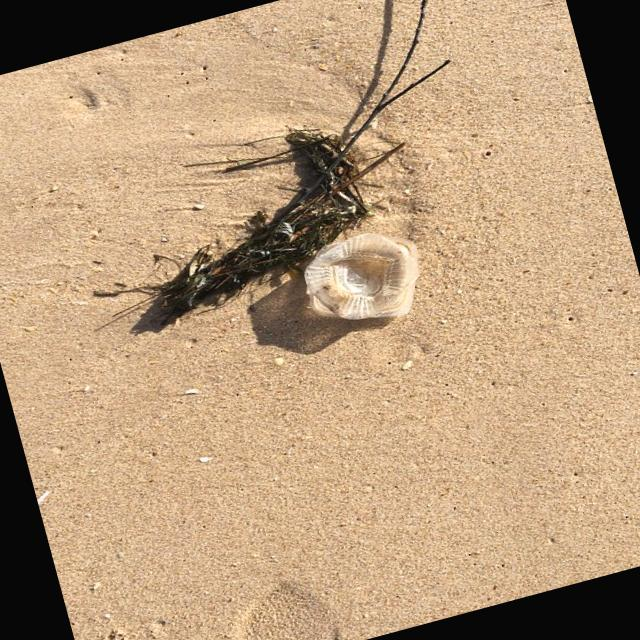Trash: (282, 214, 441, 346)
